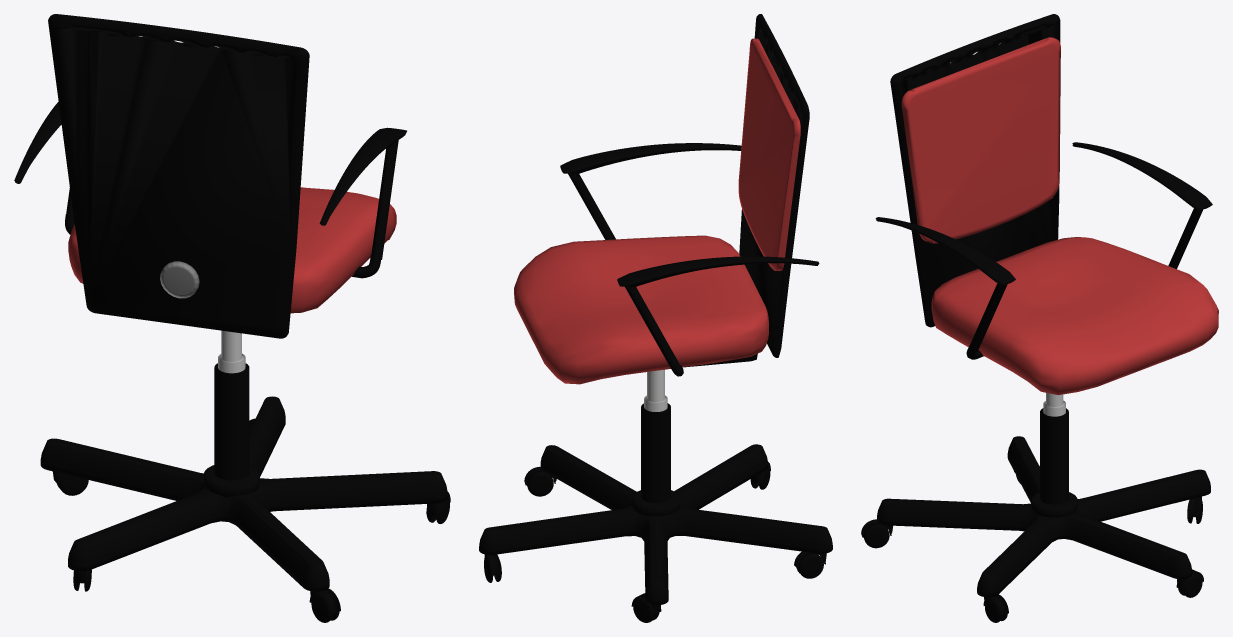
Rendered from office_chair.fbx.
3 renders of one model, left to right at view 1: azimuth 30°, elevation 25°; view 2: azimuth 150°, elevation 25°; view 3: azimuth 270°, elevation 25°, orthographic. The views are drawn at different scales.
Visible parts, largest first — view 1: Color007.18, Object53, Box08, Object02, Loft70, Loft69, Cylinder87, Loft72, Object55; view 2: Box08, Object53, Rectangle53, Color007.18, Object02, Loft72, Loft70, Loft71, Loft69, Object55, llanta57, llanta67; view 3: Box08, Rectangle53, Object53, Color007.18, Object02, Loft70, Loft72, Loft69, Loft71, llanta70.
Boxes of the visible parts, <box> form: Color007.18: <box>48,14,309,338</box>; Object53: <box>40,396,447,591</box>; Box08: <box>68,187,396,313</box>; Object02: <box>214,363,249,480</box>; Loft70: <box>320,127,406,224</box>; Loft69: <box>319,140,398,278</box>; Cylinder87: <box>160,261,199,298</box>; Loft72: <box>14,102,61,182</box>; Object55: <box>221,330,241,361</box>; Box08: <box>514,235,768,384</box>; Object53: <box>479,444,832,605</box>; Rectangle53: <box>738,38,800,270</box>; Color007.18: <box>739,14,809,357</box>; Object02: <box>641,403,670,502</box>; Loft72: <box>617,256,819,287</box>; Loft70: <box>560,143,741,174</box>; Loft71: <box>625,263,817,376</box>; Loft69: <box>568,149,741,239</box>; Object55: <box>647,369,664,402</box>; llanta57: <box>527,472,553,496</box>; llanta67: <box>799,554,823,578</box>; Box08: <box>931,237,1218,395</box>; Rectangle53: <box>901,37,1060,243</box>; Object53: <box>877,436,1210,597</box>; Color007.18: <box>890,14,1060,327</box>; Object02: <box>1040,408,1068,504</box>; Loft70: <box>875,217,1015,284</box>; Loft72: <box>1072,142,1212,209</box>; Loft69: <box>876,220,1007,359</box>; Loft71: <box>1072,144,1203,268</box>; llanta70: <box>864,524,889,548</box>.
Size of the model in its own units: 285 by 396 by 274.
